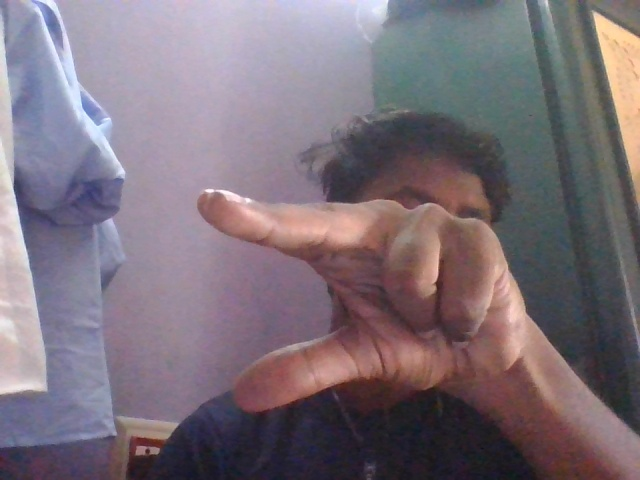no: (173, 160, 546, 423)
